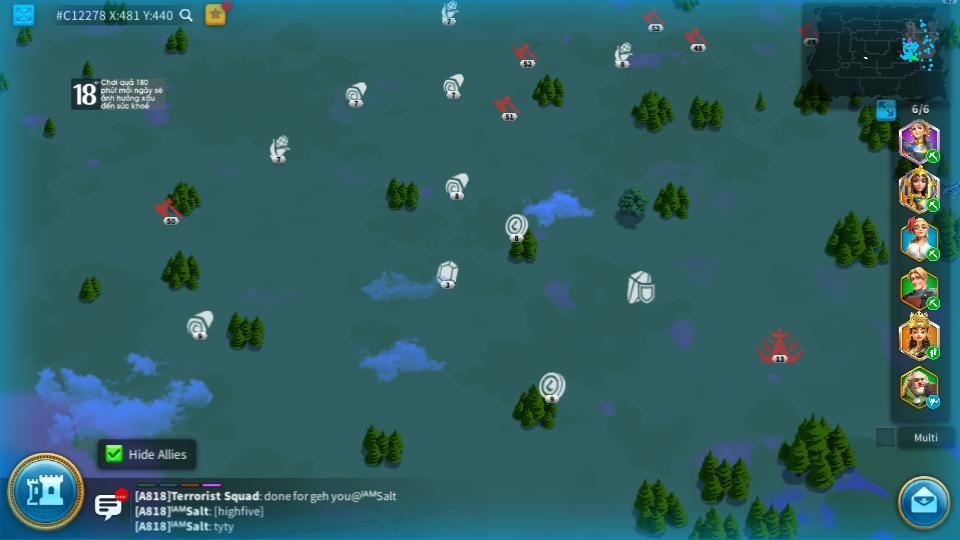gem-z-out: (435, 260, 459, 287)
march_farming: (923, 197, 940, 212), (925, 149, 941, 162), (925, 297, 942, 308), (924, 249, 939, 261)
march_idle: (925, 396, 942, 408)
march_marching: (925, 347, 941, 359)
